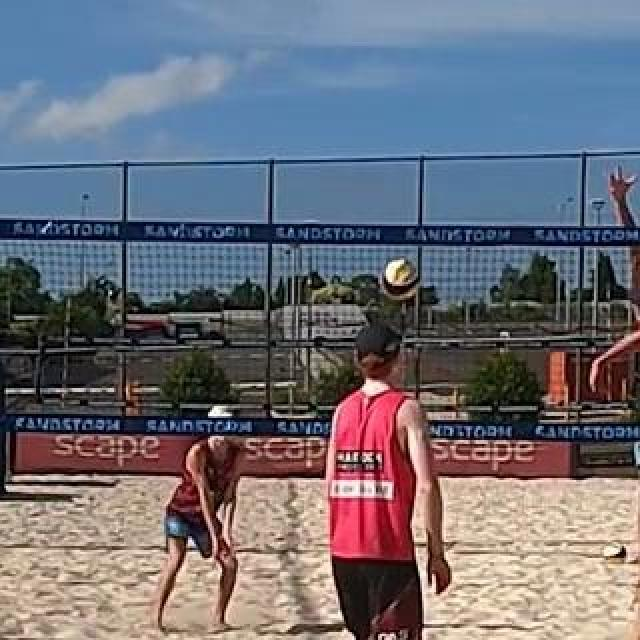volleyball: (379, 259, 417, 301), (604, 544, 626, 568)
